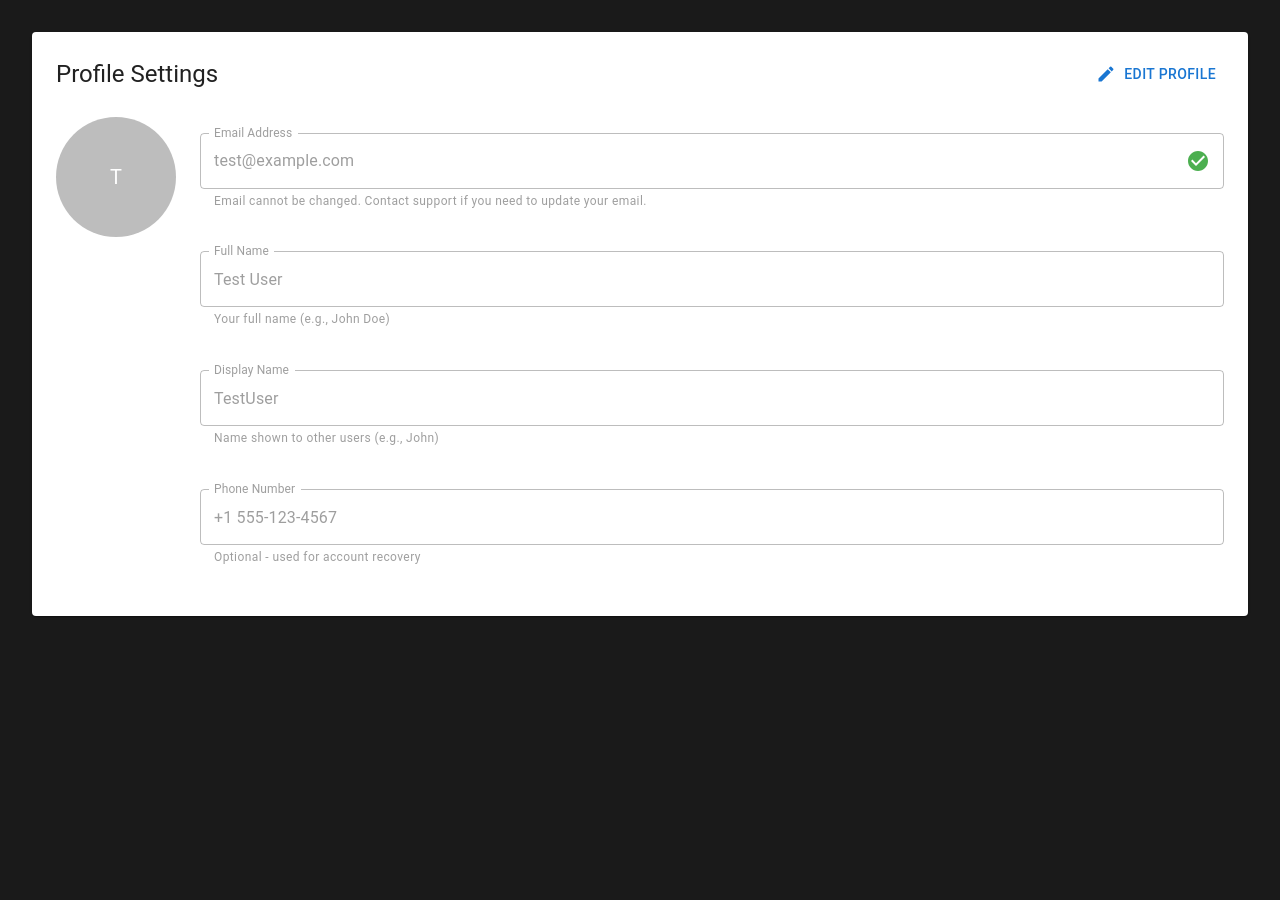
it: ProfileSettings › edit mode › should enable editing when edit profile button is clicked
Click the button "Edit Profile" at (1158, 74), box [1092,56,1224,92]
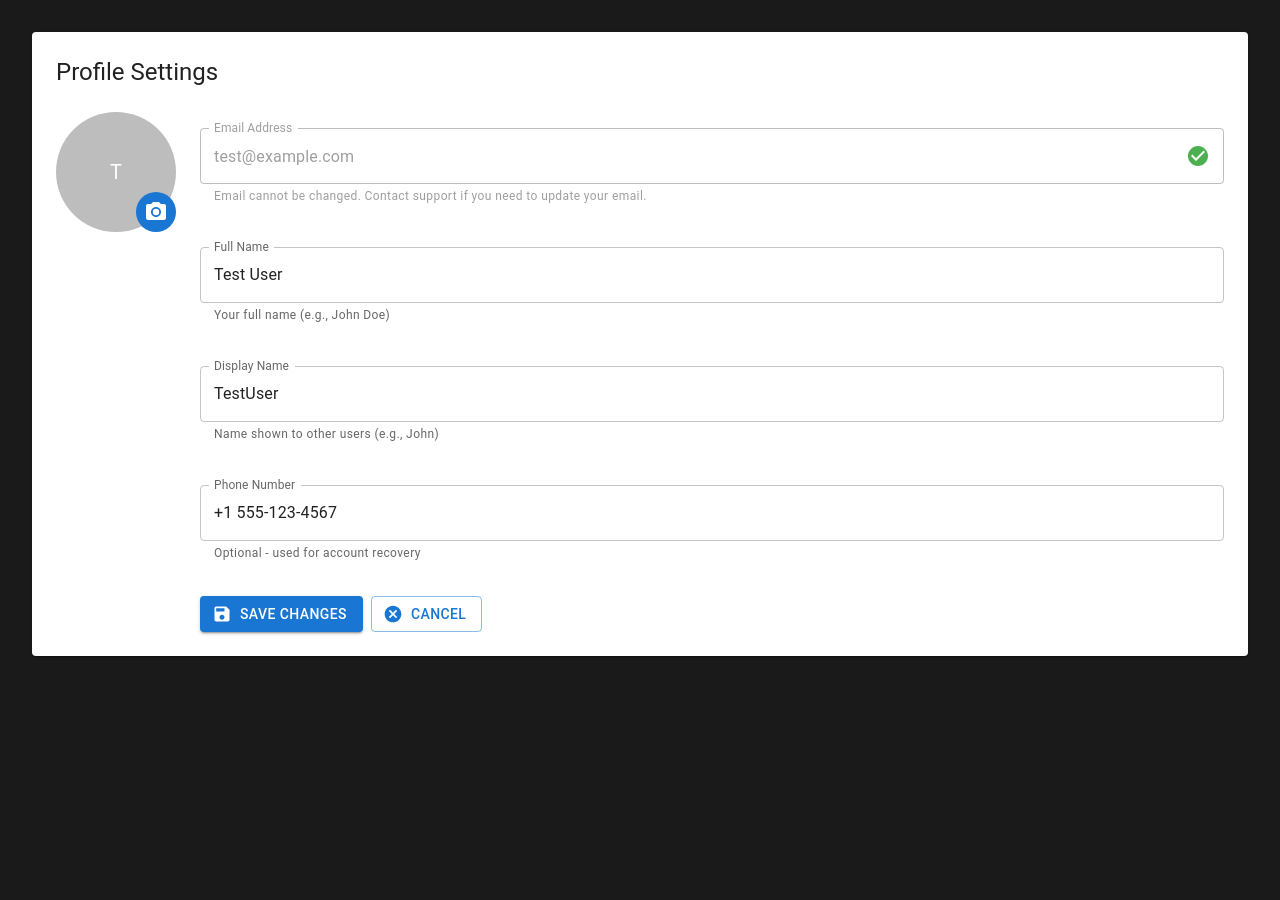
Now the button "Save Changes" is shown, box [200,596,363,632]
Now the button "Cancel" is shown, box [371,596,482,632]
Now the button "Edit Profile" is gone
